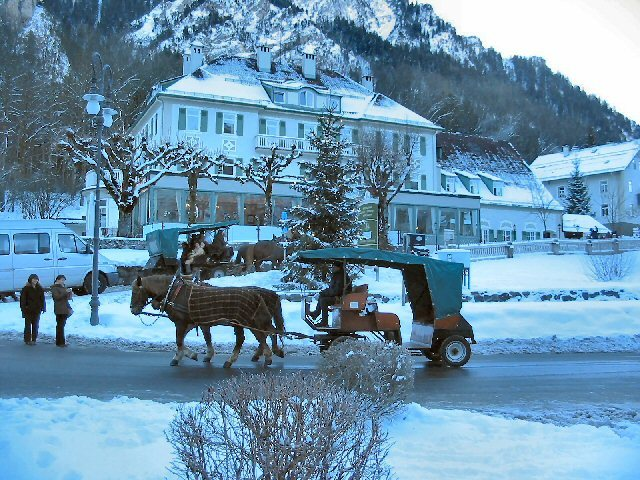horse: (129, 270, 286, 369)
